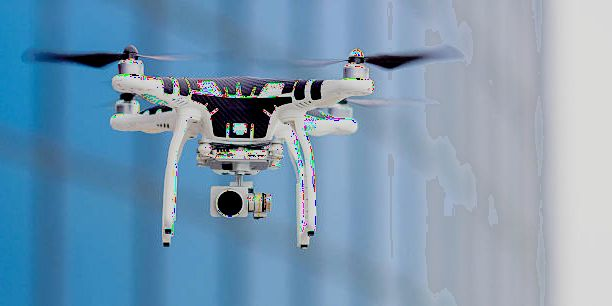Drone: (17, 39, 470, 256)
